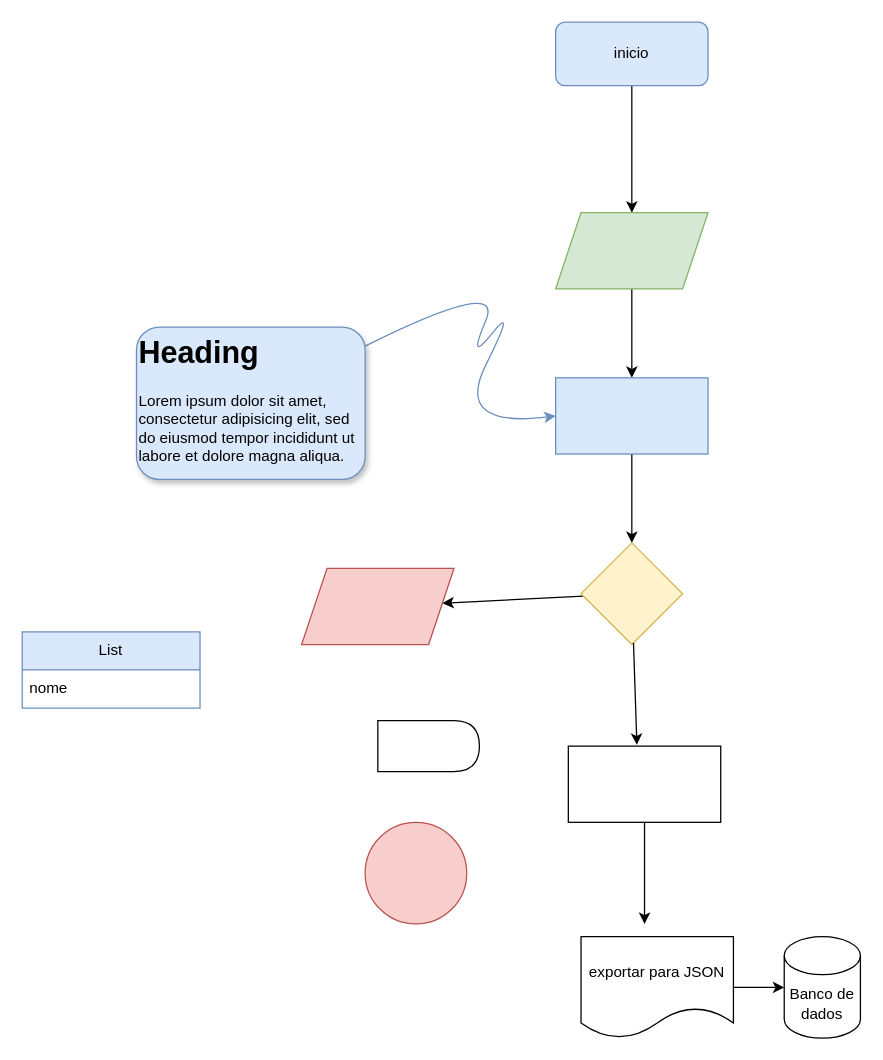
Image size: 883x1060. Some labels were removed from this diagram. The shapes that lost their labels are listed below. From the top down, each one's centre as x and y in pixels, then its label:
At (x=631, y=250): "nome email senha".
At (x=377, y=606): "campo vazio".
At (x=644, y=783): "criar o objeto".
